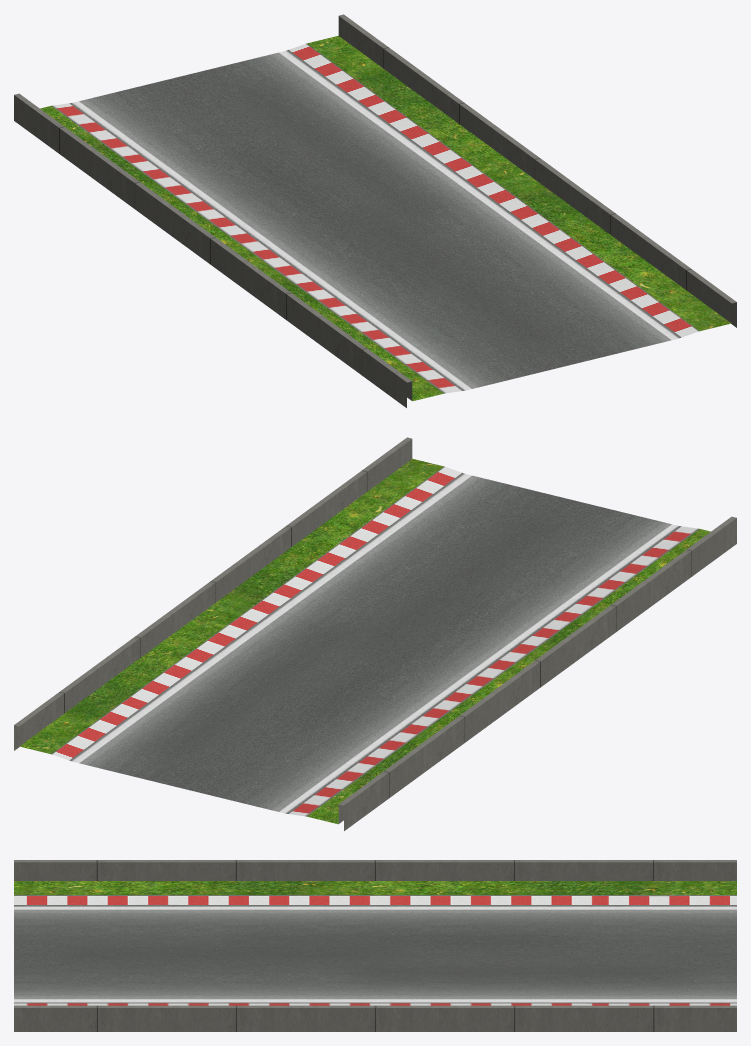
Rendered from str_long.fbx.
3 renders of one model, top to bottom at view 1: azimuth 30°, elevation 25°; view 2: azimuth 150°, elevation 25°; view 3: azimuth 270°, elevation 25°, orthographic. The views are drawn at different scales.
Parts seen in each view (by area): view 1: 2; view 2: 2; view 3: 2.
Boxes of the visible parts, x1,y1,x2,y2 form: 2: (14,14,736,407); 2: (14,437,736,830); 2: (14,860,736,1031).
Size of the model in its own units: 177 by 13.34 by 366.
